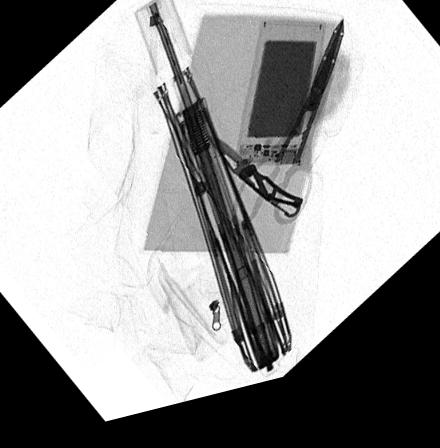Knife: (190, 146, 303, 233)
Powerbank: (231, 34, 323, 178)
Scissors: (226, 34, 342, 243)
